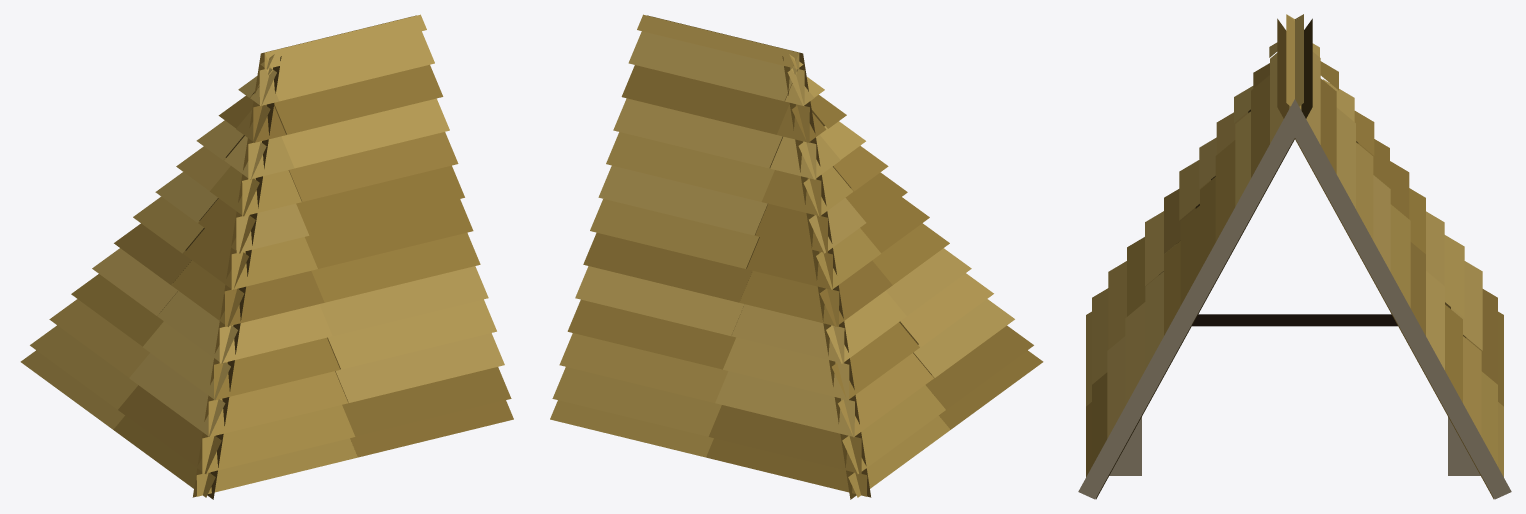
Rendered from roof-high-gable-end-thatch.glb.
3 views of the same model, side by side, from view 1: azimuth 30°, elevation 25°; view 2: azimuth 150°, elevation 25°; view 3: azimuth 270°, elevation 25° (orthographic). The views are drawn at different scales.
Parts seen in each view (by area): view 1: roof-high-gable-end-thatch; view 2: roof-high-gable-end-thatch; view 3: roof-high-gable-end-thatch.
Part boxes in pixels (x1,y1,x2,y2): roof-high-gable-end-thatch: (20, 14, 513, 499); roof-high-gable-end-thatch: (550, 14, 1043, 499); roof-high-gable-end-thatch: (1078, 14, 1511, 499).
Size of the model in its own units: 1.12 by 1.16 by 1.13.
